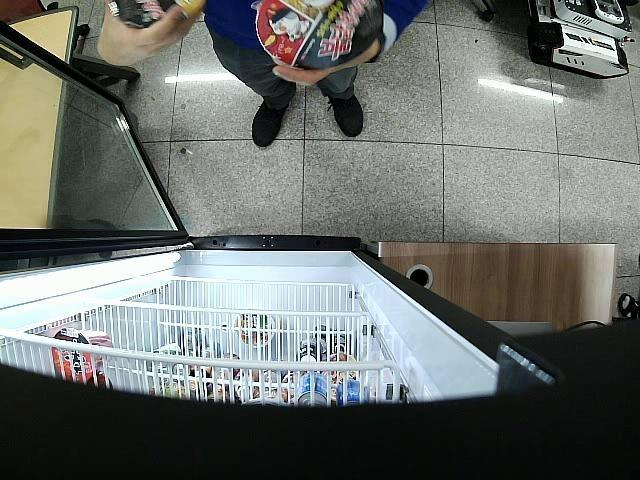07_buldak_L: (256, 0, 384, 70), (110, 0, 206, 30)
